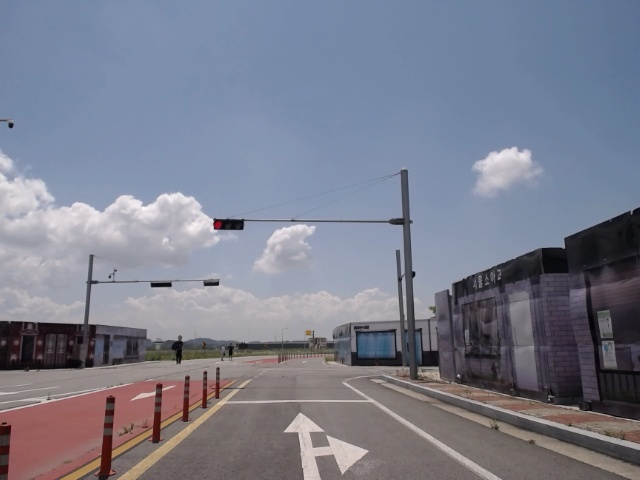red_3: (211, 218, 245, 232)
